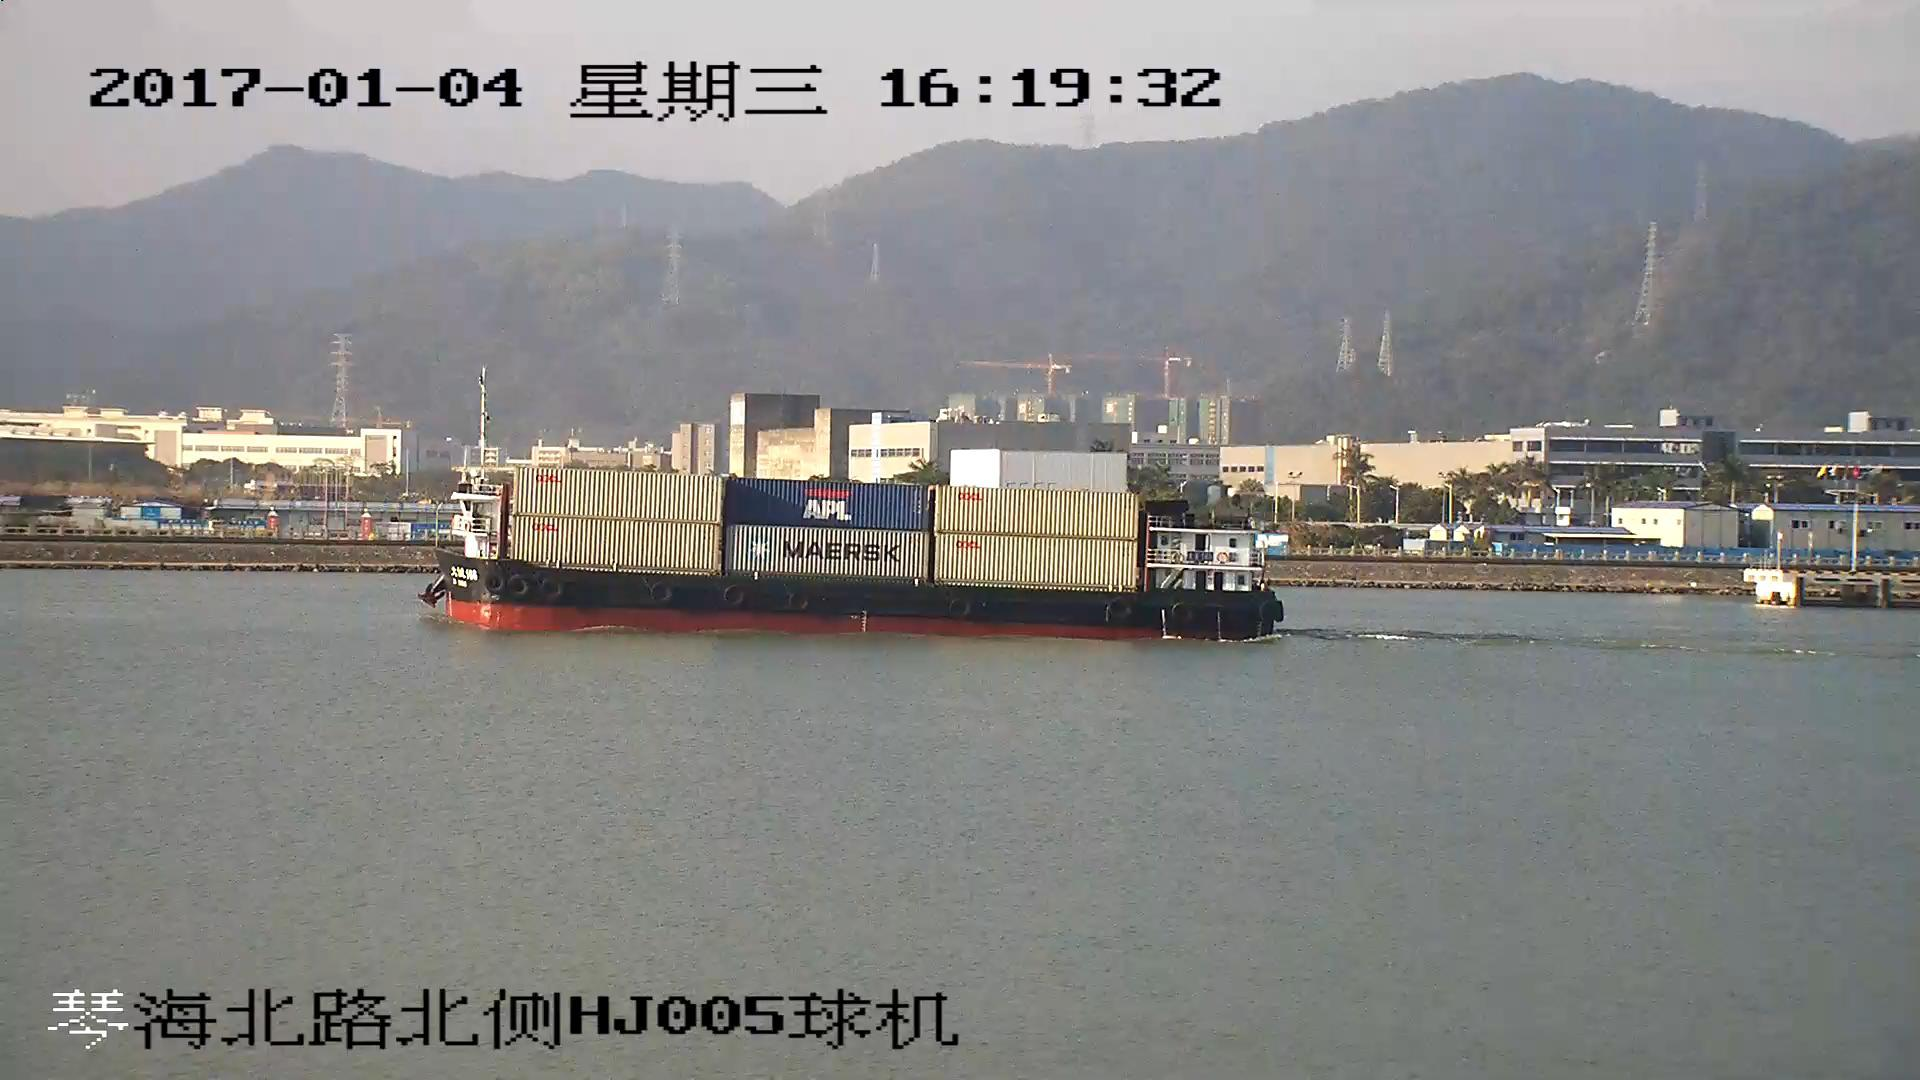Ship: (422, 465, 1287, 644)
